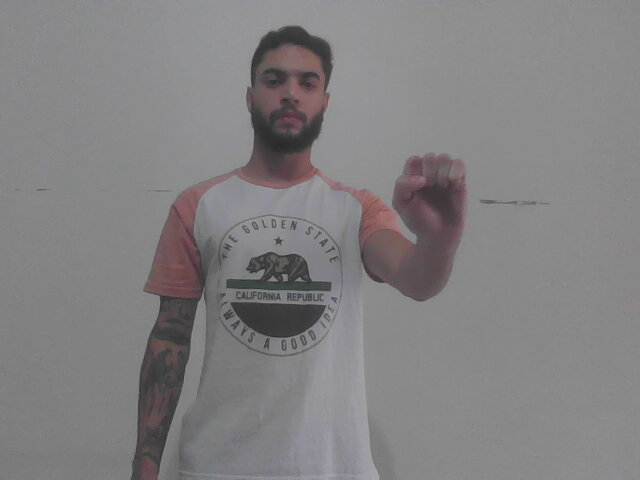s: (389, 151, 474, 246)
